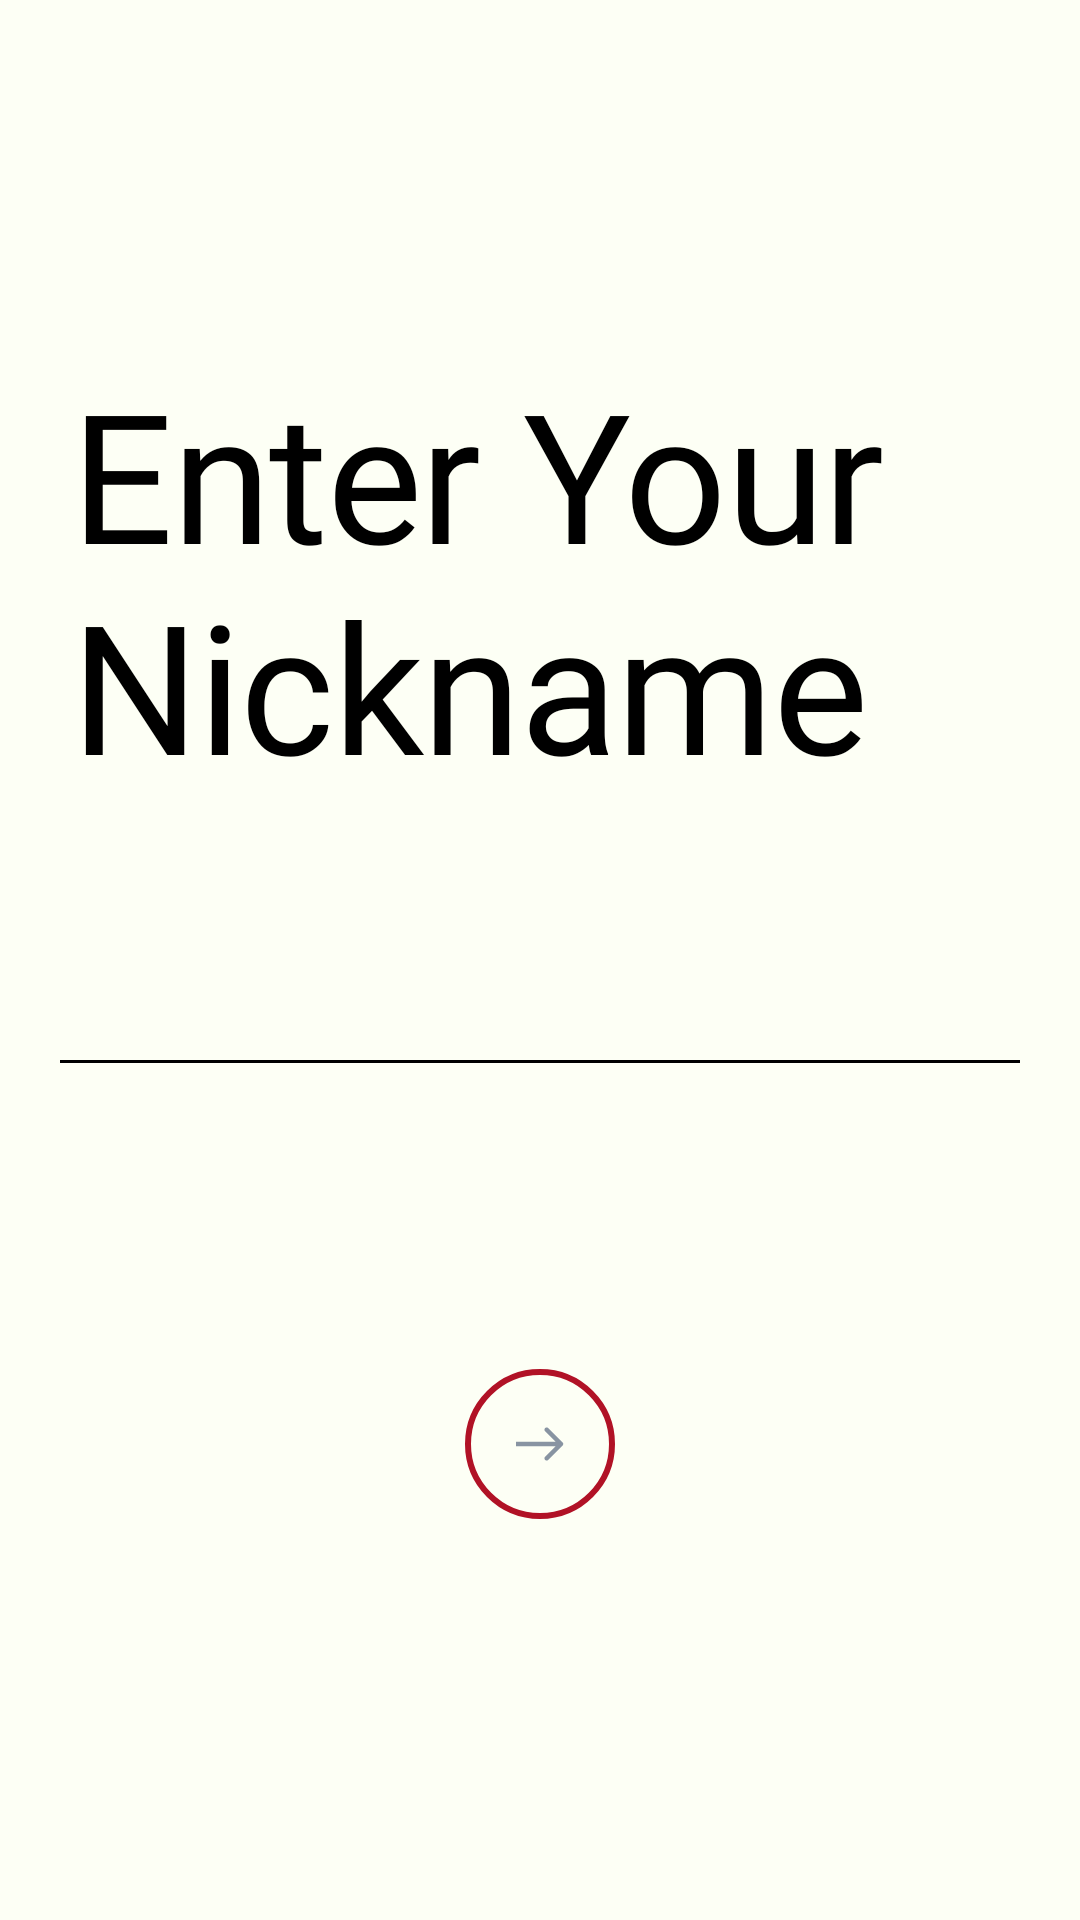

Named icons in this screenshot (1080 × 1920) and their centers, (x=x, y=y):
arrow: (x=540, y=1444)
